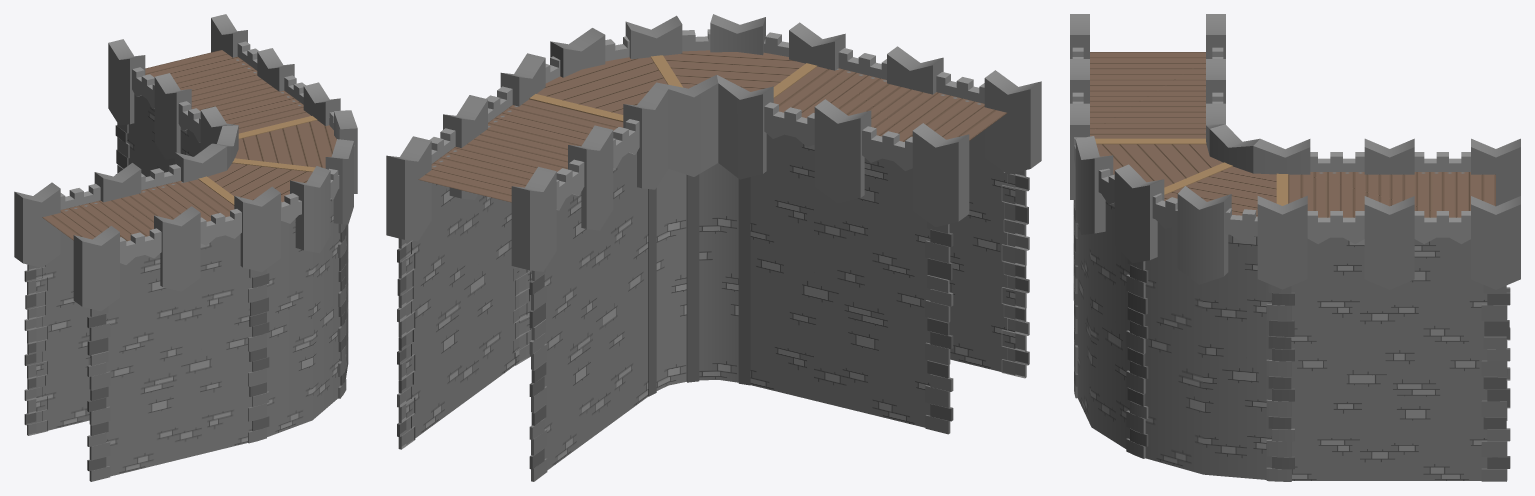
The model's file is wallRound90.gltf.
The picture shows the model from 3 angles, left to right: view 1: azimuth 30°, elevation 25°; view 2: azimuth 150°, elevation 25°; view 3: azimuth 270°, elevation 25°; orthographic projection. The views are drawn at different scales.
Visible parts, largest first — view 1: wallRound90; view 2: wallRound90; view 3: wallRound90.
Part boxes in pixels (left/top/right/bottom): wallRound90: left=14, top=14, right=357, bottom=481; wallRound90: left=386, top=14, right=1041, bottom=481; wallRound90: left=1070, top=14, right=1520, bottom=481.
Size of the model in its own units: 19.49 by 13.35 by 19.5.
7 materials, 2 textured.
